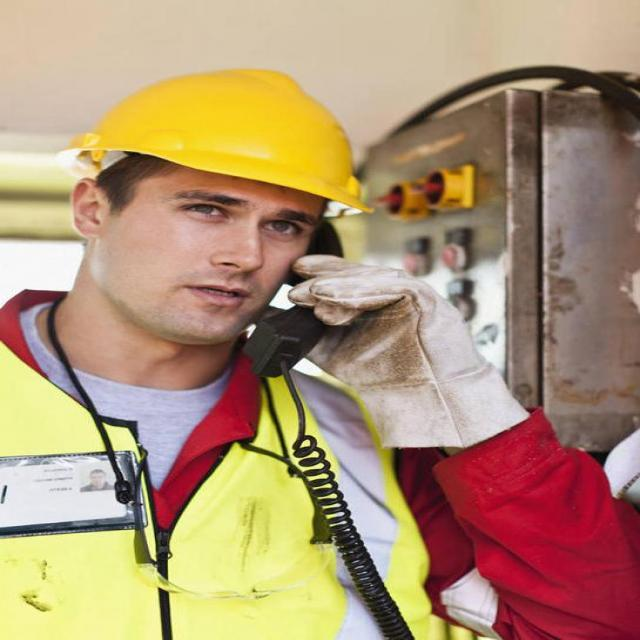reflective_jacket: (0, 311, 439, 639)
safety_helmet: (56, 63, 375, 214)
